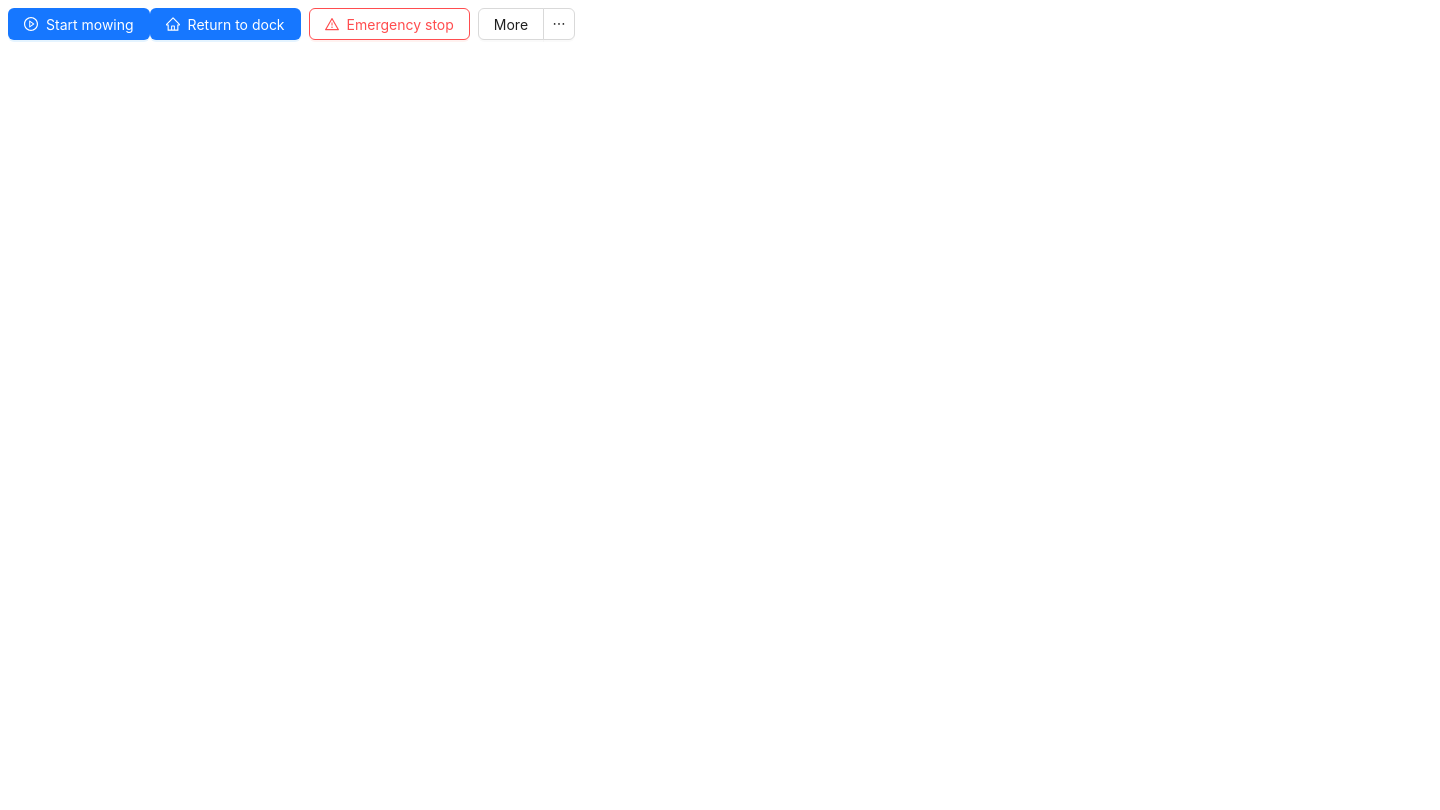
MowerActions real DIG_OBSTRUCTION acknowledgement integration › cancelled continue does not send clear or start
This screenshot has width=1440, height=810.
Click the button "More".
click(511, 24)  # box [478, 8, 544, 40]
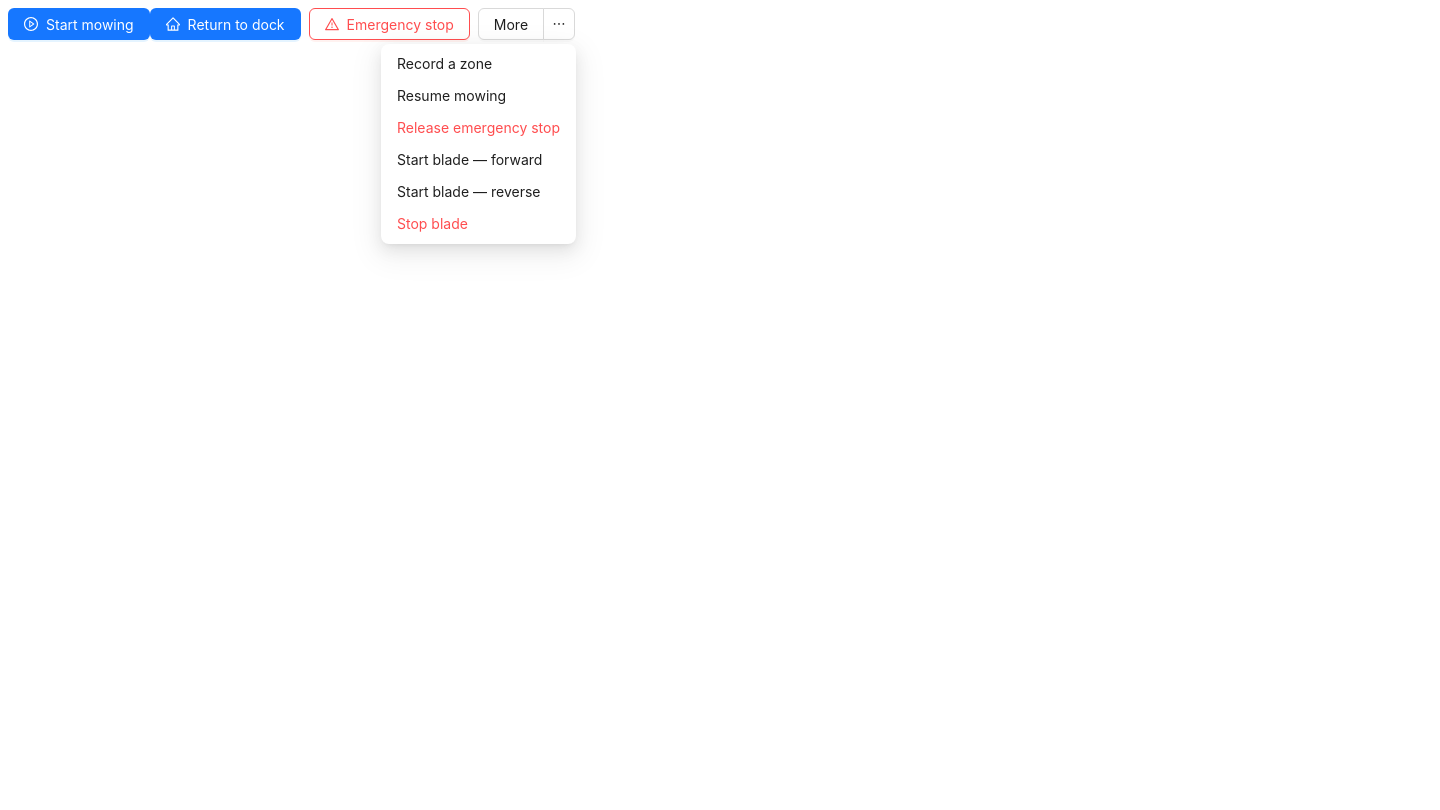
Click the menu item "Resume mowing".
click(452, 96)  # box [397, 87, 506, 104]
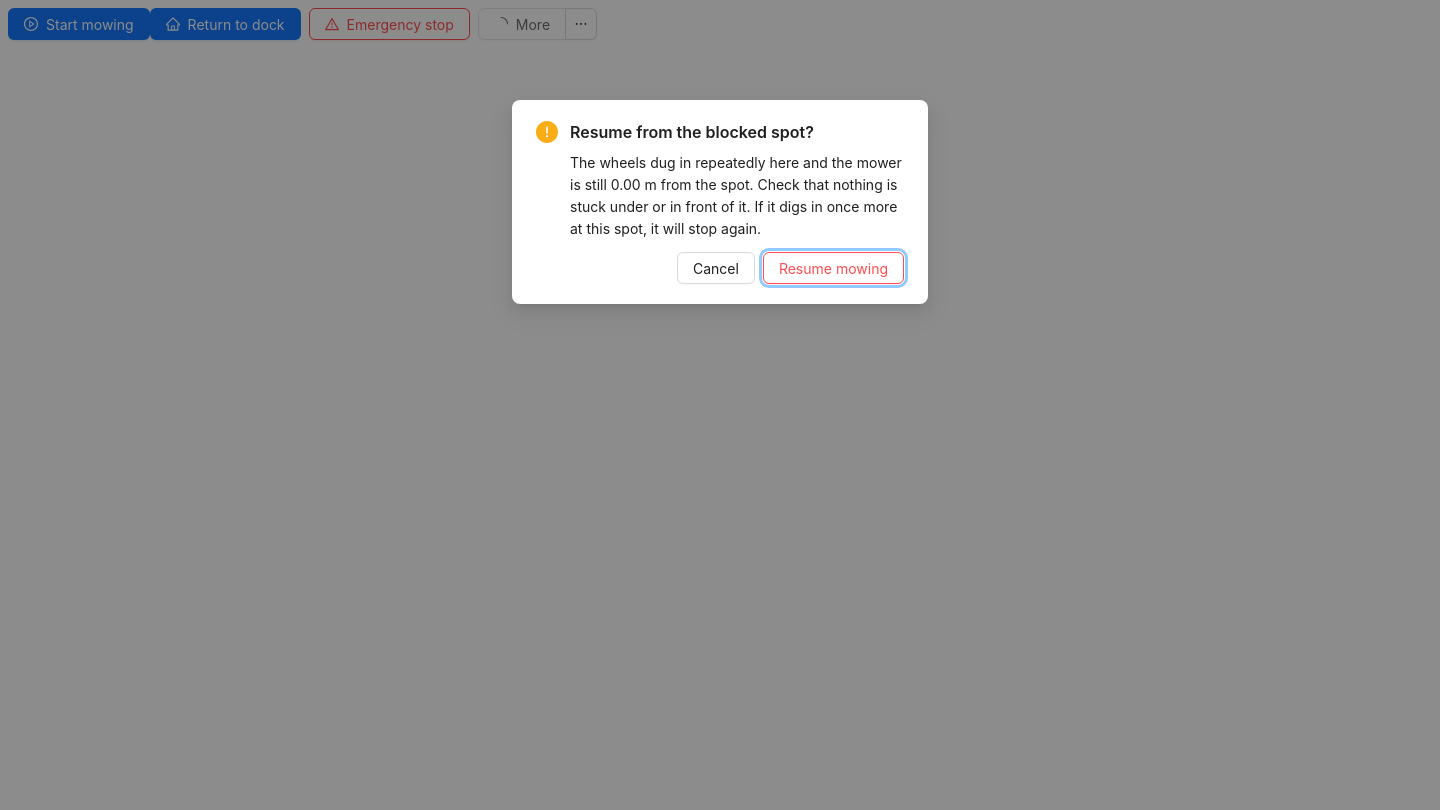
Click the button "Cancel".
click(716, 268)  # box [677, 252, 755, 284]
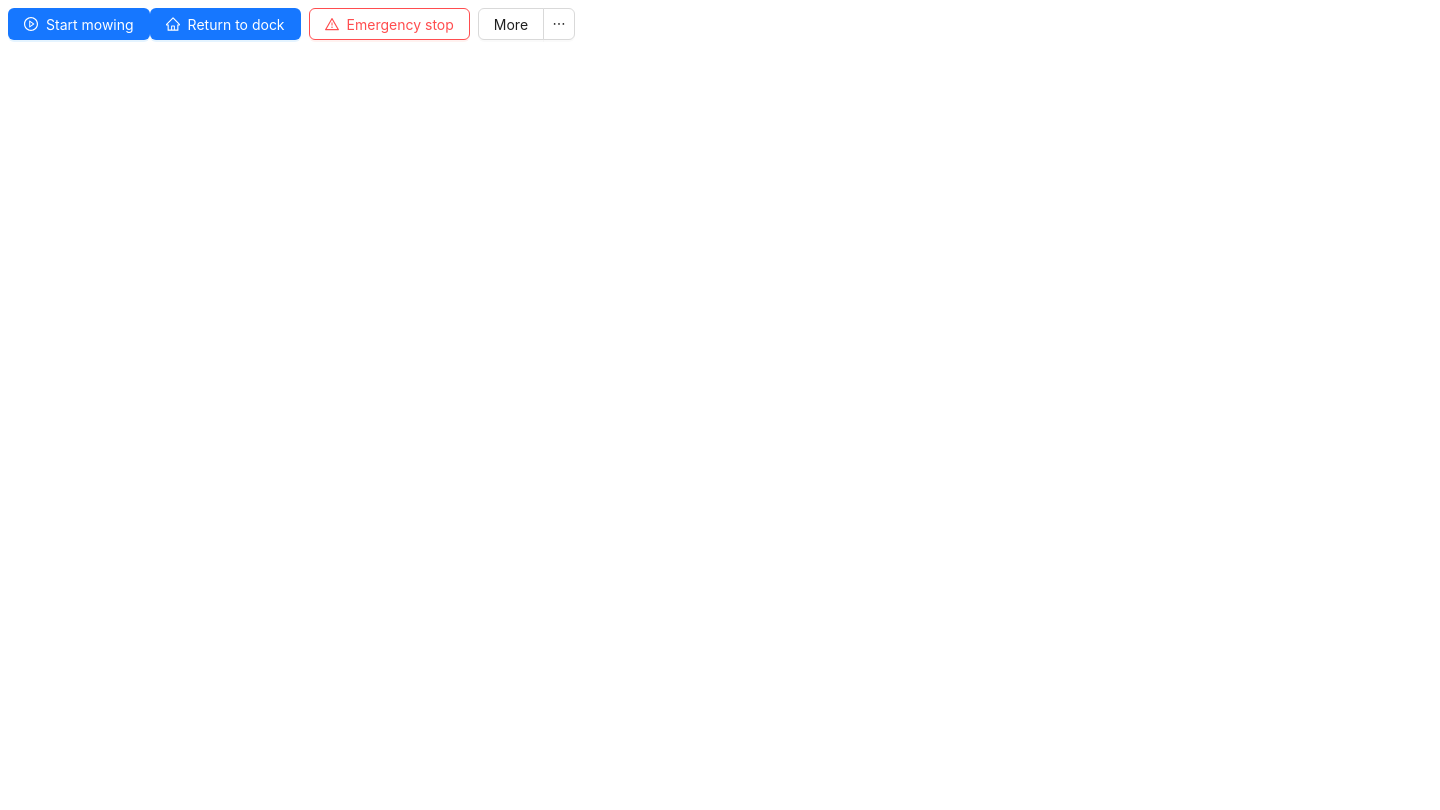
Expected: the dialog is gone
